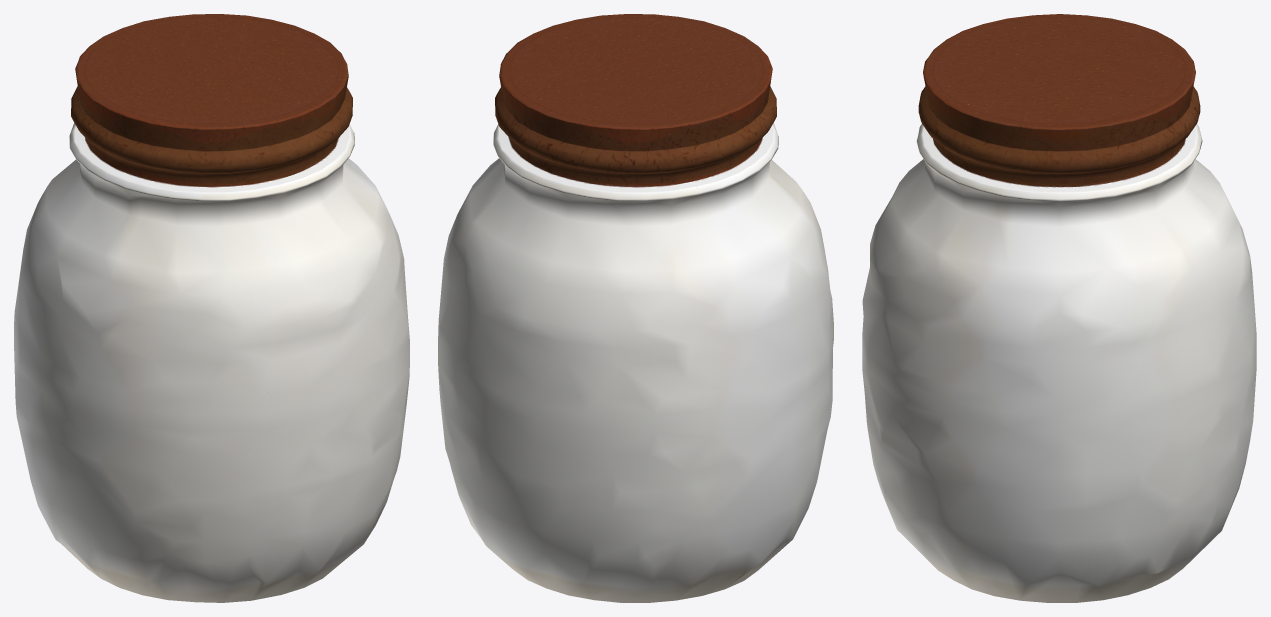
Rendered from firefly_jar.glb.
3 renders of one model, left to right at view 1: azimuth 30°, elevation 25°; view 2: azimuth 150°, elevation 25°; view 3: azimuth 270°, elevation 25°, orthographic.
Size of the model in its own units: 1.43 by 1.91 by 1.43.
Materials: 1 (1 with a texture image).
